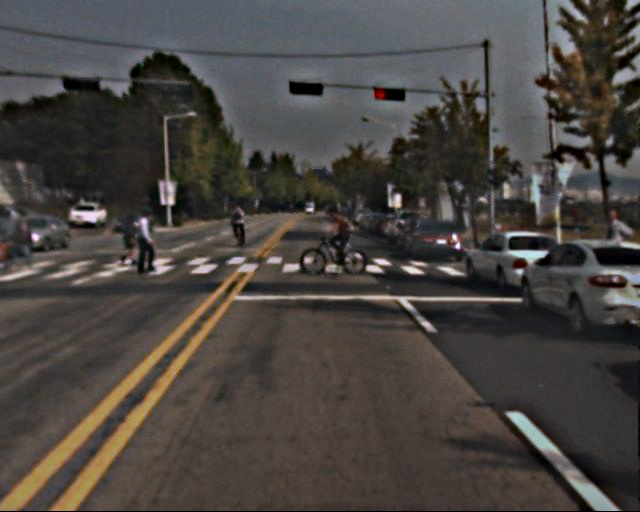person: (331, 203, 357, 267), (135, 210, 161, 273), (13, 210, 32, 271), (121, 216, 140, 262), (230, 204, 248, 249)
